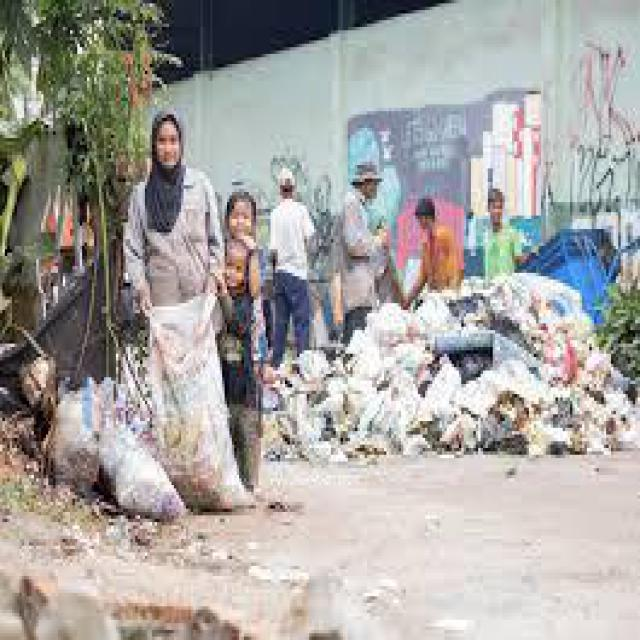garbage: (294, 340, 638, 455), (38, 364, 236, 512), (377, 280, 594, 347)
